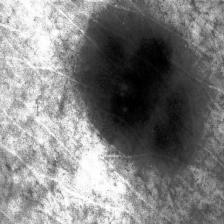Benign Marking or Mole: (84, 16, 193, 166)
